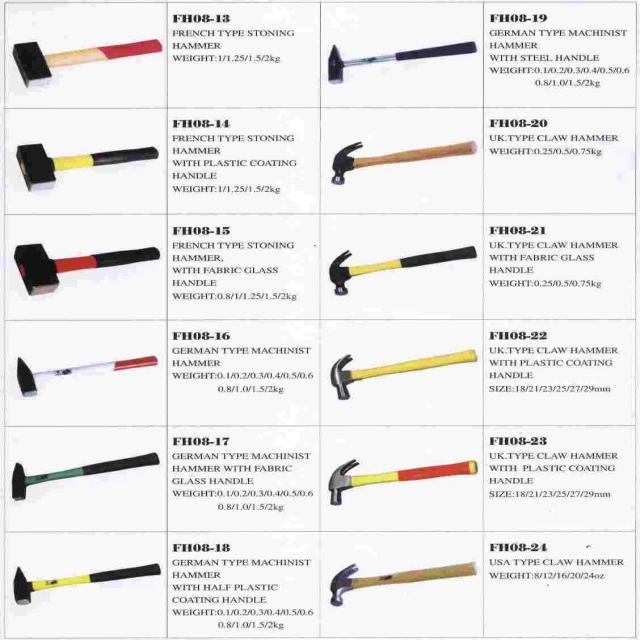hammer: (7, 24, 166, 94), (10, 239, 164, 304), (324, 241, 482, 301), (324, 450, 482, 510), (324, 554, 484, 612), (324, 345, 479, 403), (10, 346, 162, 405), (13, 136, 164, 195), (8, 447, 164, 504), (9, 553, 163, 610), (322, 39, 479, 92), (328, 135, 482, 188)
